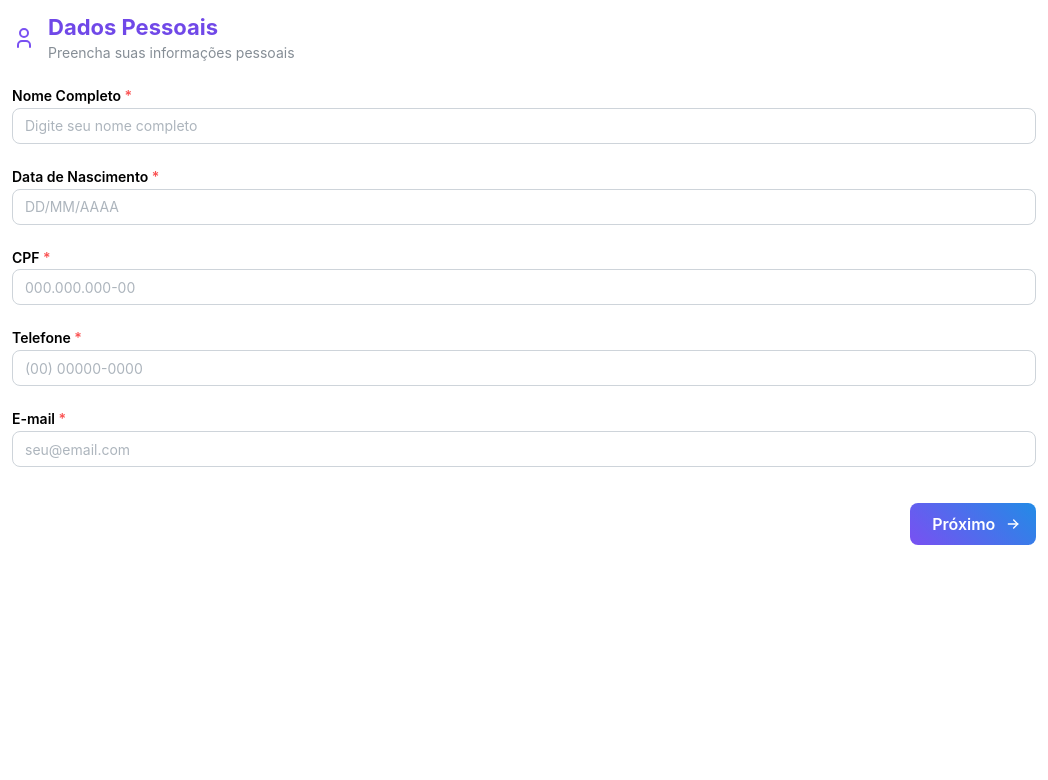
Test case: Step1PersonalData › aplica máscara de CPF
The image size is (1048, 780).
In the field labelled "CPF *": (524, 288) [12,270,1036,306], type "12345678900"
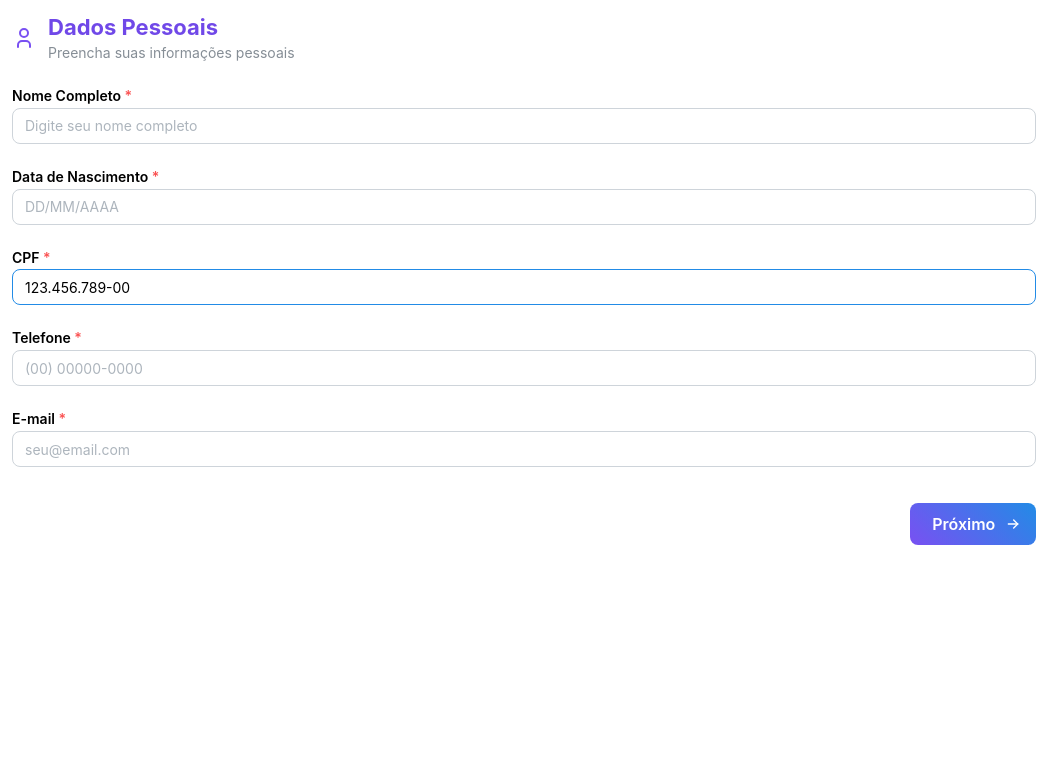
Expected: the field labelled "CPF *" holds "123.456.789-00", [12,270,1036,306]
